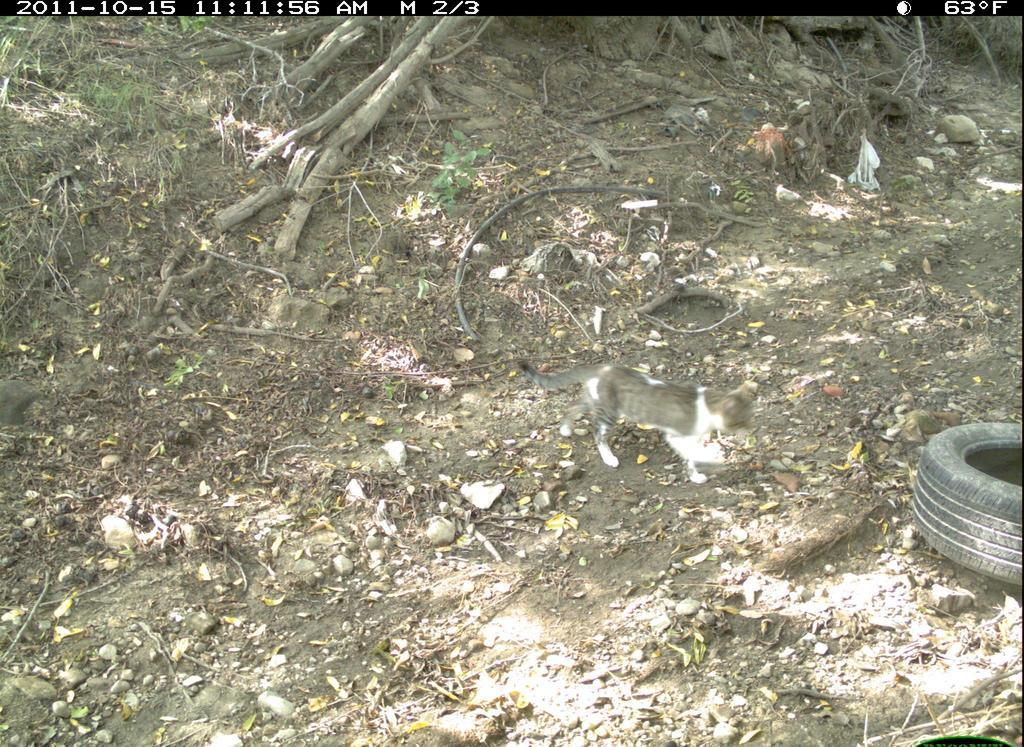cat: (510, 344, 785, 496)
